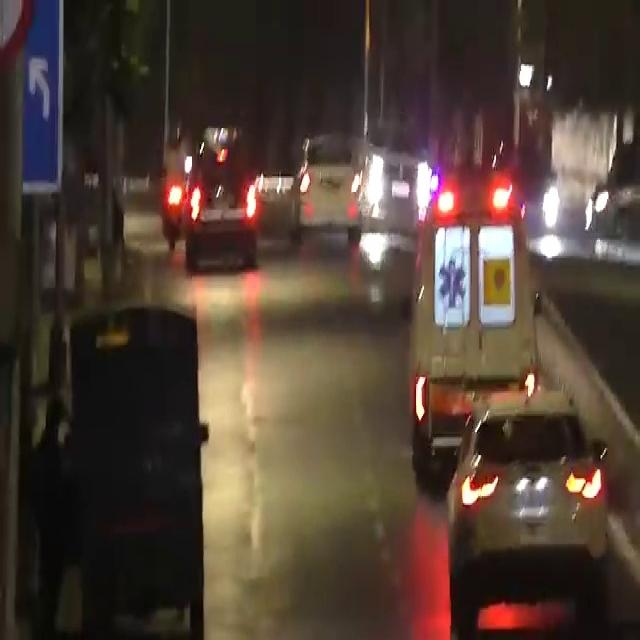ambulance: (404, 180, 524, 444)
